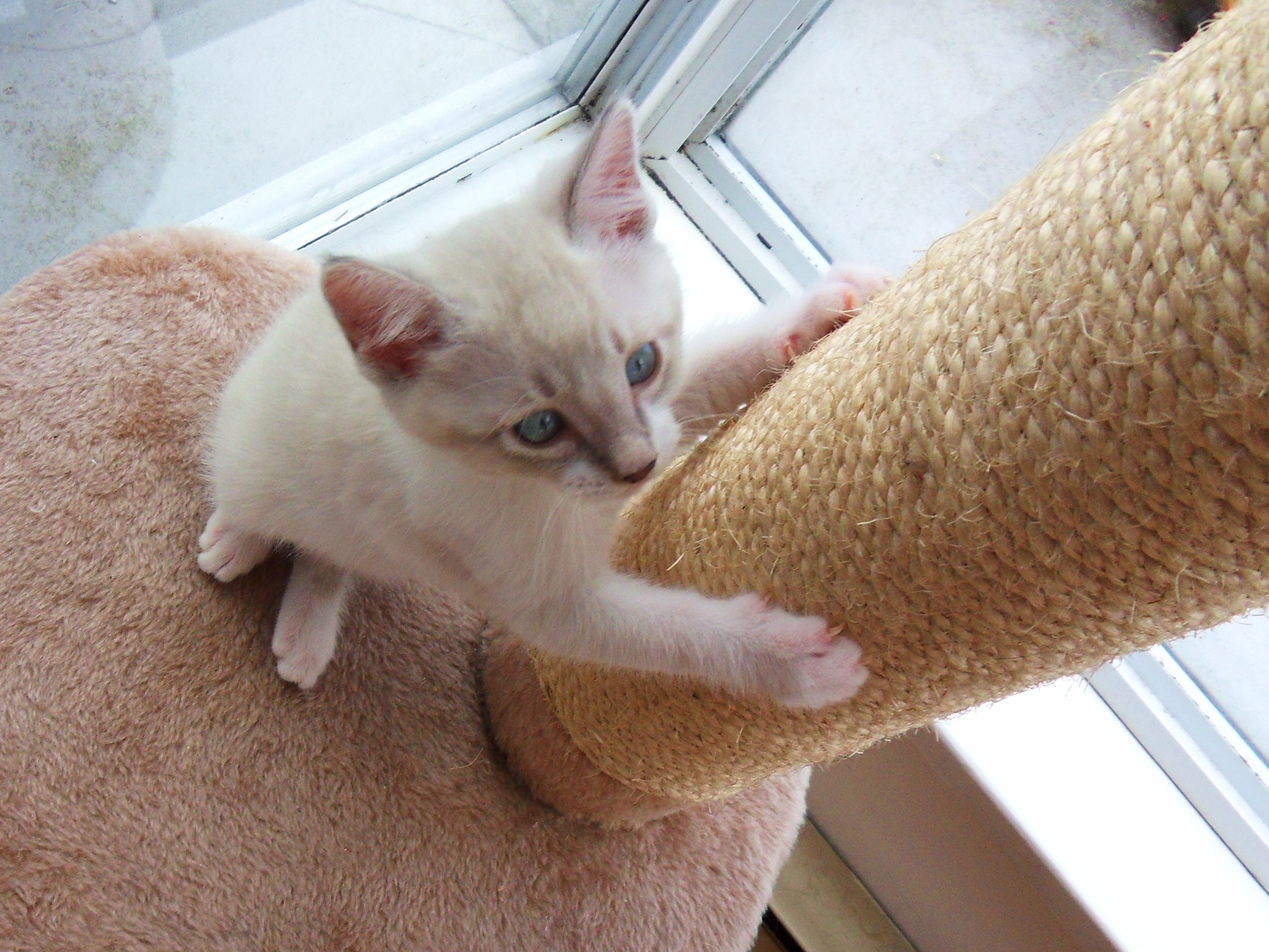cat: (190, 95, 886, 721)
